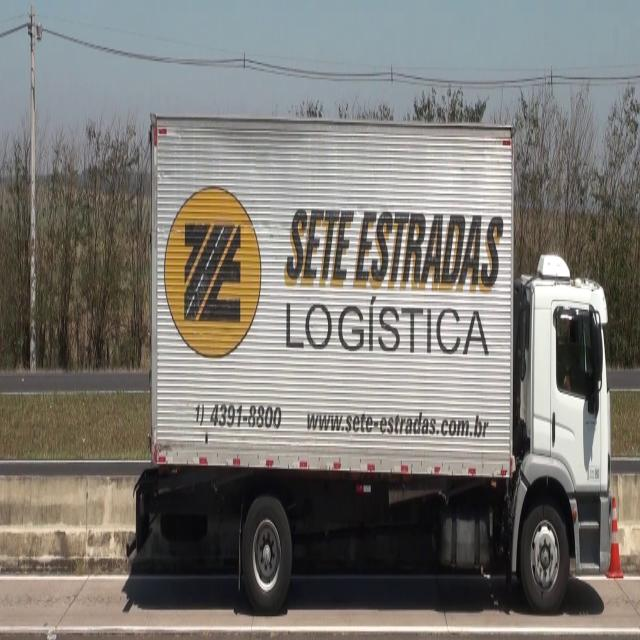-axle: (242, 490, 294, 611), (521, 498, 571, 608)
